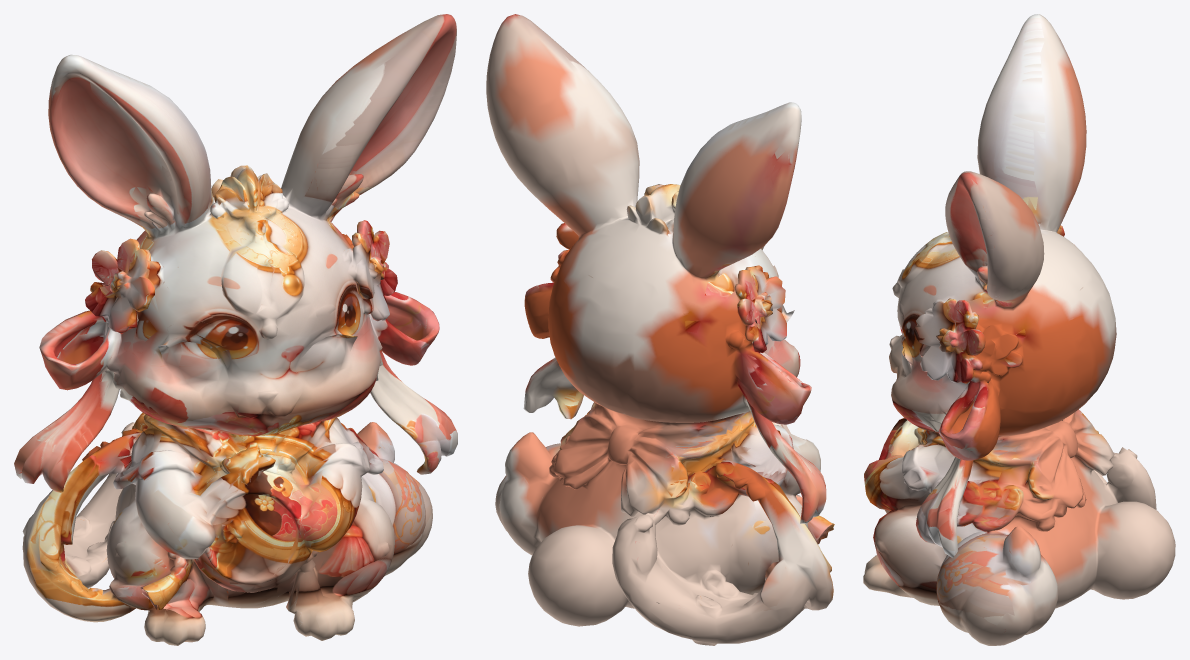
The model's file is rabbit_roblox.glb.
3 views of the same model, side by side, from view 1: azimuth 30°, elevation 25°; view 2: azimuth 150°, elevation 25°; view 3: azimuth 270°, elevation 25° (orthographic). The views are drawn at different scales.
Parts seen in each view (by area): view 1: MoonRabbit_Part003, MoonRabbit_Part002, MoonRabbit_Eyes; view 2: MoonRabbit_Part002, MoonRabbit_Part003; view 3: MoonRabbit_Part002, MoonRabbit_Part003, MoonRabbit_Eyes.
Boxes of the visible parts, x1=… form: MoonRabbit_Part003: x1=17, y1=14, x2=457, y2=645; MoonRabbit_Part002: x1=14, y1=14, x2=445, y2=645; MoonRabbit_Eyes: x1=259, y1=269, x2=338, y2=370; MoonRabbit_Part002: x1=486, y1=15, x2=834, y2=645; MoonRabbit_Part003: x1=498, y1=14, x2=834, y2=637; MoonRabbit_Part002: x1=874, y1=14, x2=1175, y2=645; MoonRabbit_Part003: x1=863, y1=14, x2=1085, y2=645; MoonRabbit_Eyes: x1=892, y1=261, x2=920, y2=353.
Size of the model in its own units: 2.4 by 3.25 by 1.83.
Materials: 2 (2 with a texture image).
